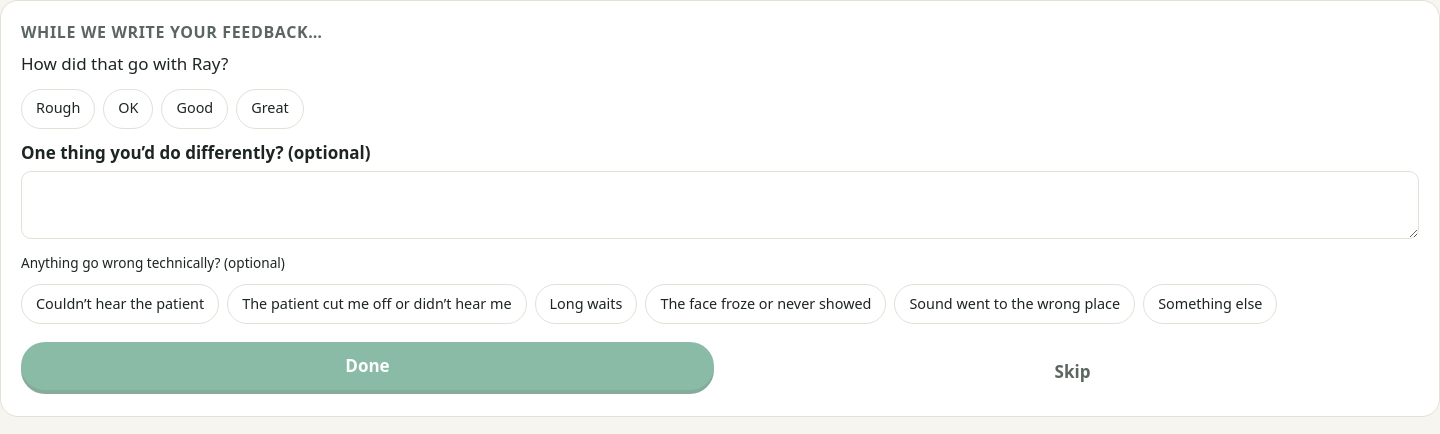
Test: ReflectionCard › a rating, an optional note, optional problems; Done needs only the rating
Later steps or results of the test are not shown.
Expected: the text "How did that go with Ray?" is shown, [21,52,228,75]
Expected: the button "Done" is disabled, [21,342,714,390]
Click the button "Good".
click(195, 109)  # box [162,89,228,129]
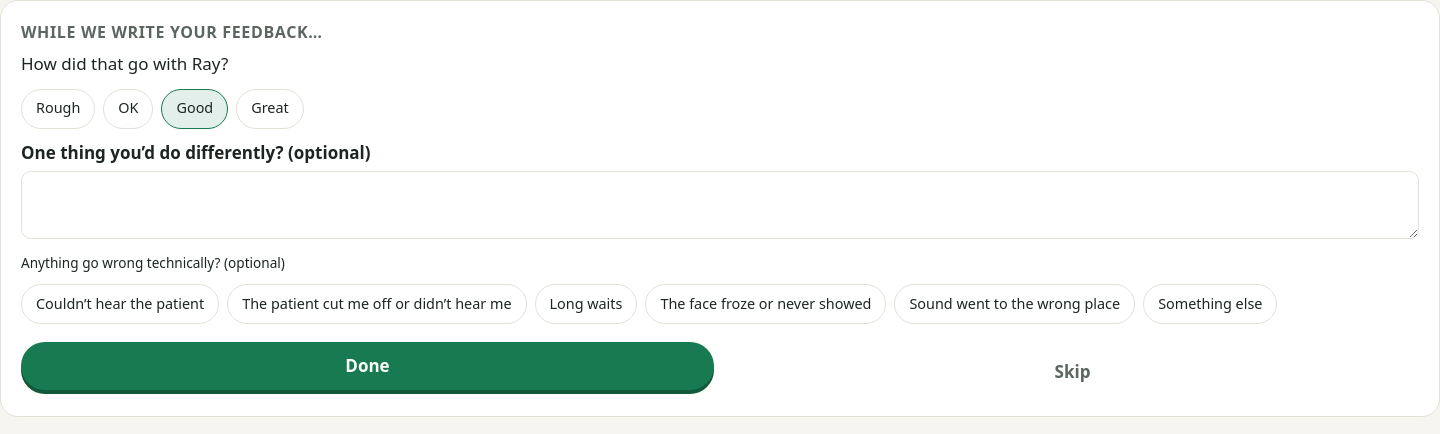
Now the button "Done" is enabled, box [21,342,714,390]
